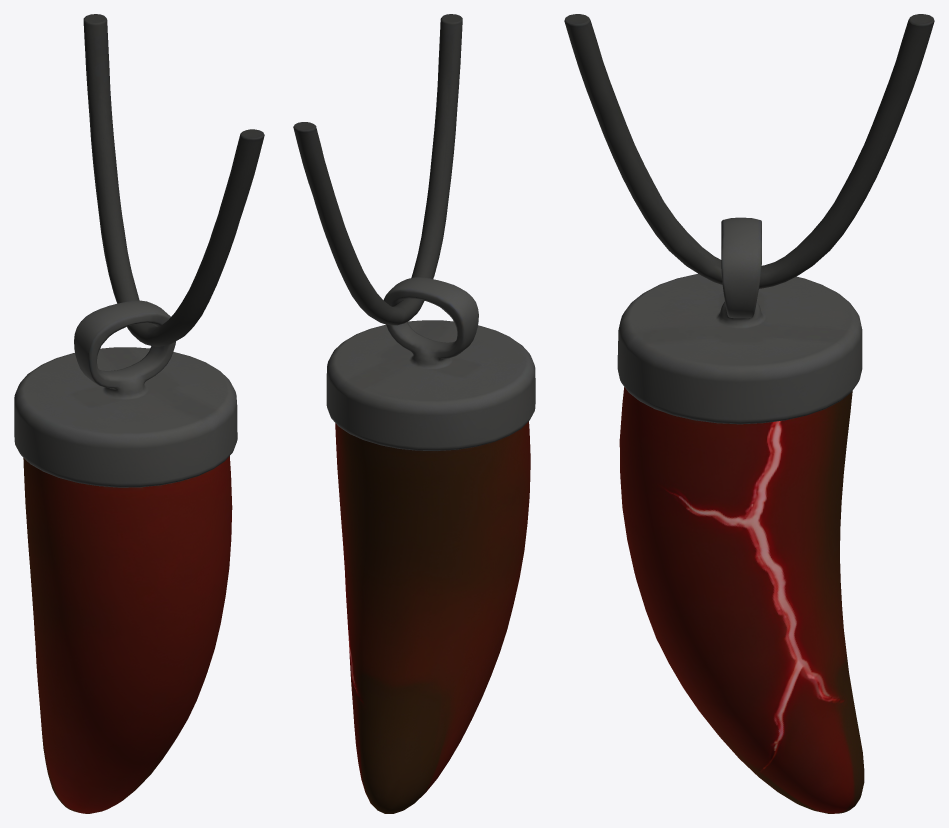
The model's file is evil-immortal-charm.glb.
The picture shows the model from 3 angles, left to right: view 1: azimuth 30°, elevation 25°; view 2: azimuth 150°, elevation 25°; view 3: azimuth 270°, elevation 25°; orthographic projection. The views are drawn at different scales.
Visible parts, largest first — view 1: tripo_node_1febfab9-59db-4950-9d49-90e57113db25; view 2: tripo_node_1febfab9-59db-4950-9d49-90e57113db25; view 3: tripo_node_1febfab9-59db-4950-9d49-90e57113db25.
Boxes of the visible parts, x1,y1,x2,y2 form: tripo_node_1febfab9-59db-4950-9d49-90e57113db25: (14, 14, 264, 813); tripo_node_1febfab9-59db-4950-9d49-90e57113db25: (293, 14, 535, 813); tripo_node_1febfab9-59db-4950-9d49-90e57113db25: (564, 14, 934, 813).
Bounding box in the file's own units: 0.271 × 0.9995 × 0.4087.
1 material, 1 textured.
